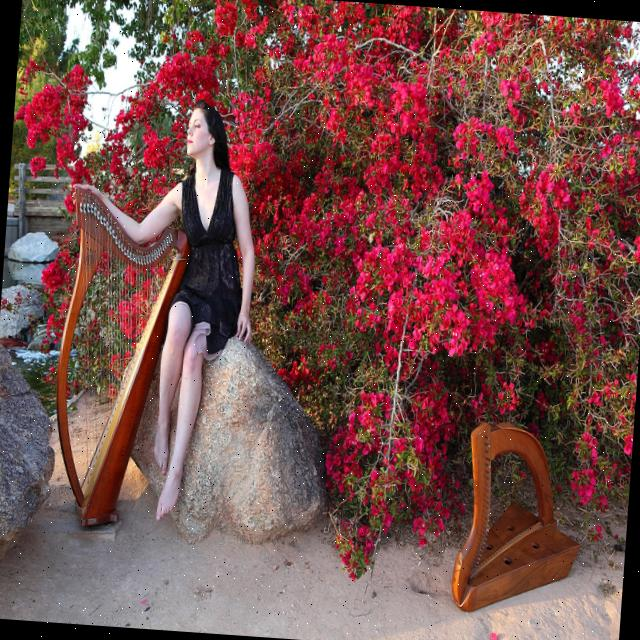harp: (44, 175, 198, 538), (447, 416, 592, 620)
